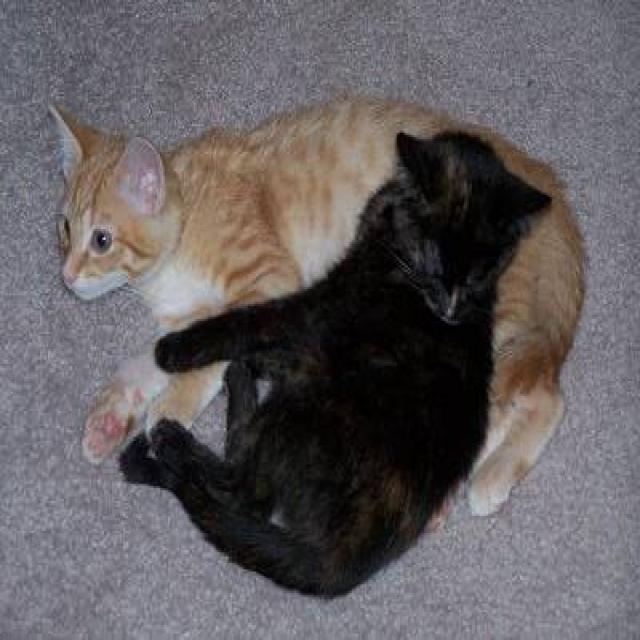cat: (23, 38, 597, 530), (107, 123, 564, 612)
